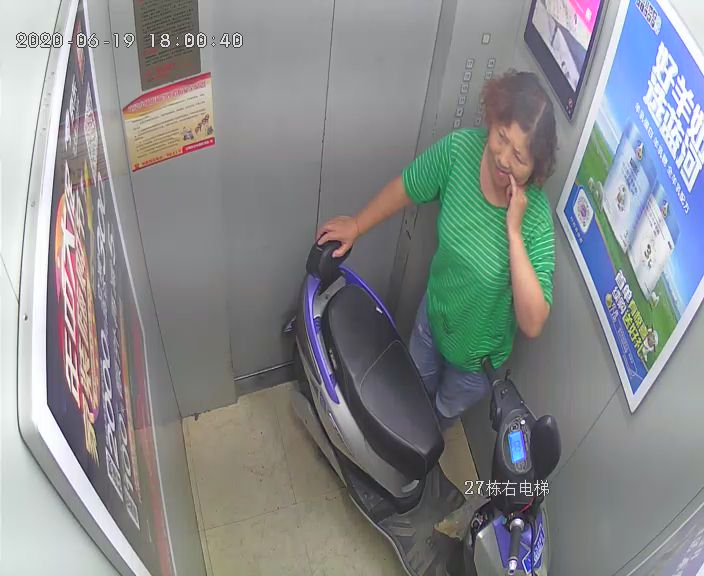Electric-bicycle: (301, 243, 560, 574)
